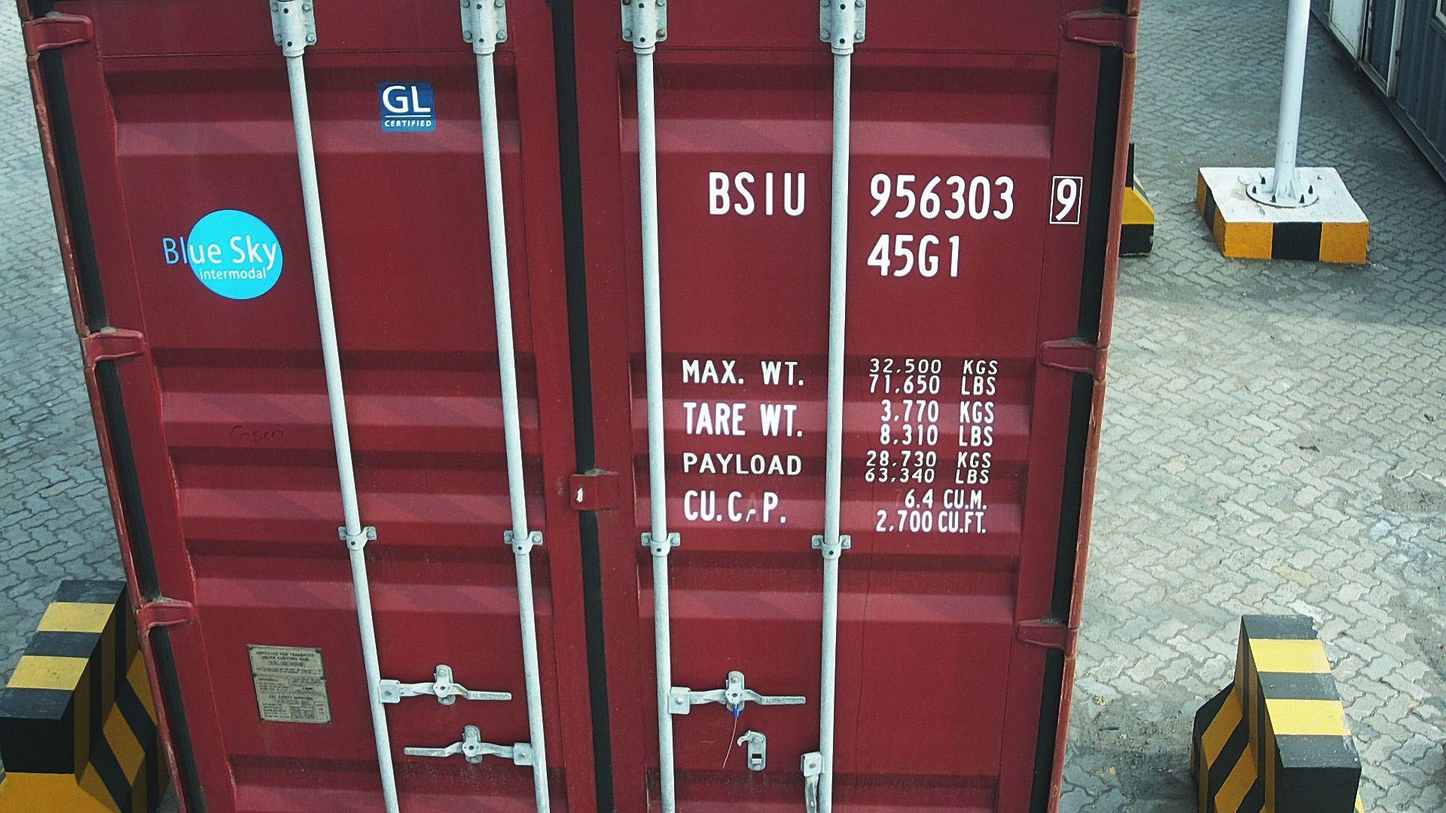container-numbers: (700, 166, 1090, 230), (862, 231, 966, 285)
